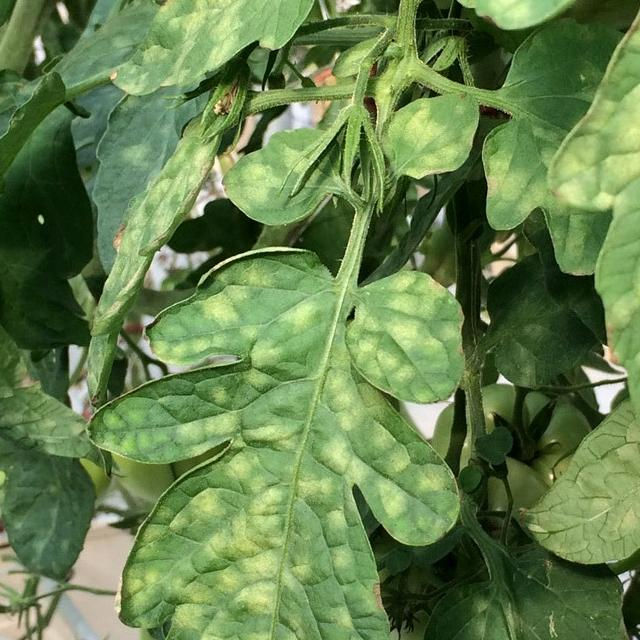Tomato mold leaf: (91, 245, 461, 640), (507, 0, 640, 586), (106, 0, 395, 106), (526, 364, 640, 571), (377, 93, 488, 192), (218, 125, 324, 226)
